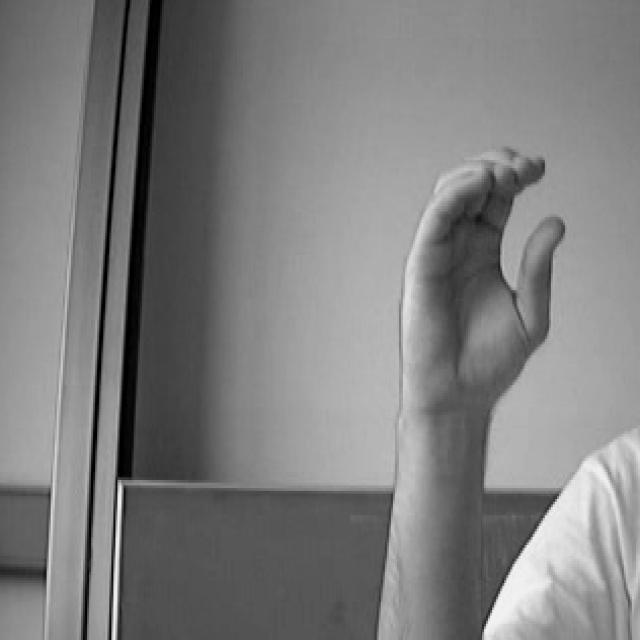C: (380, 128, 570, 424)
